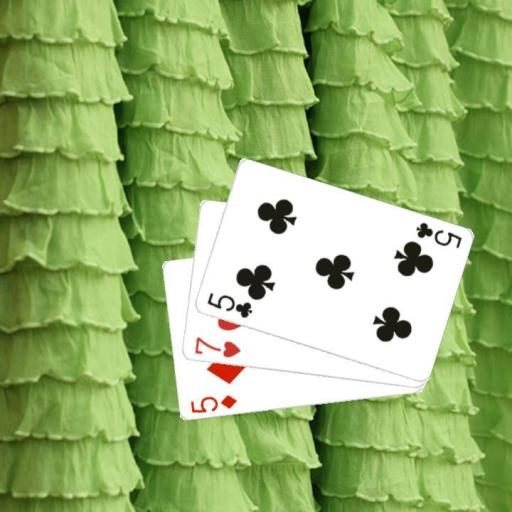5C: (412, 219, 463, 250), (204, 289, 254, 320)
5D: (187, 392, 238, 415)
7H: (191, 334, 242, 360)
